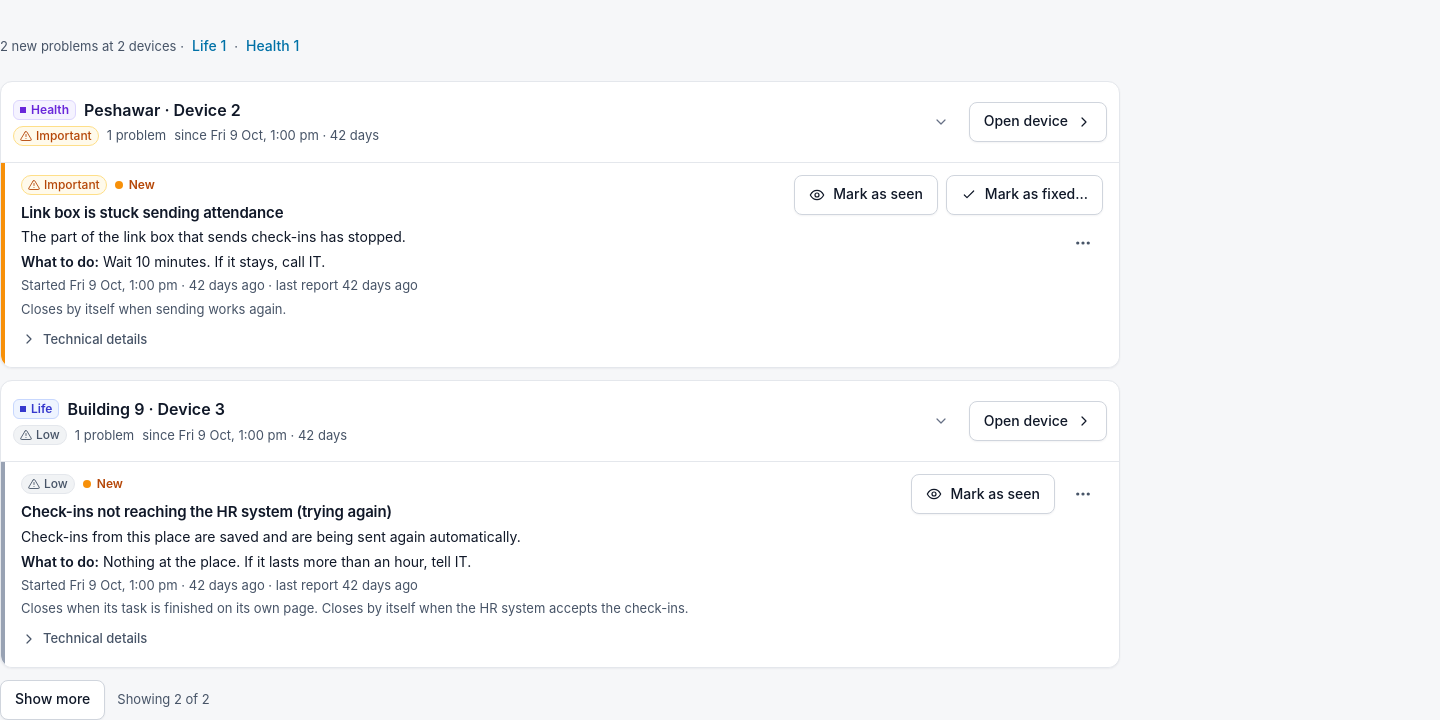
Test: Problems page › lets New load the next page with Show more
(page scrolled)
Expected: the heading "Machine clock is 9 min slow" is not shown
Click the button "Show more" at (53, 700), box [0, 680, 105, 719]
(page scrolled)
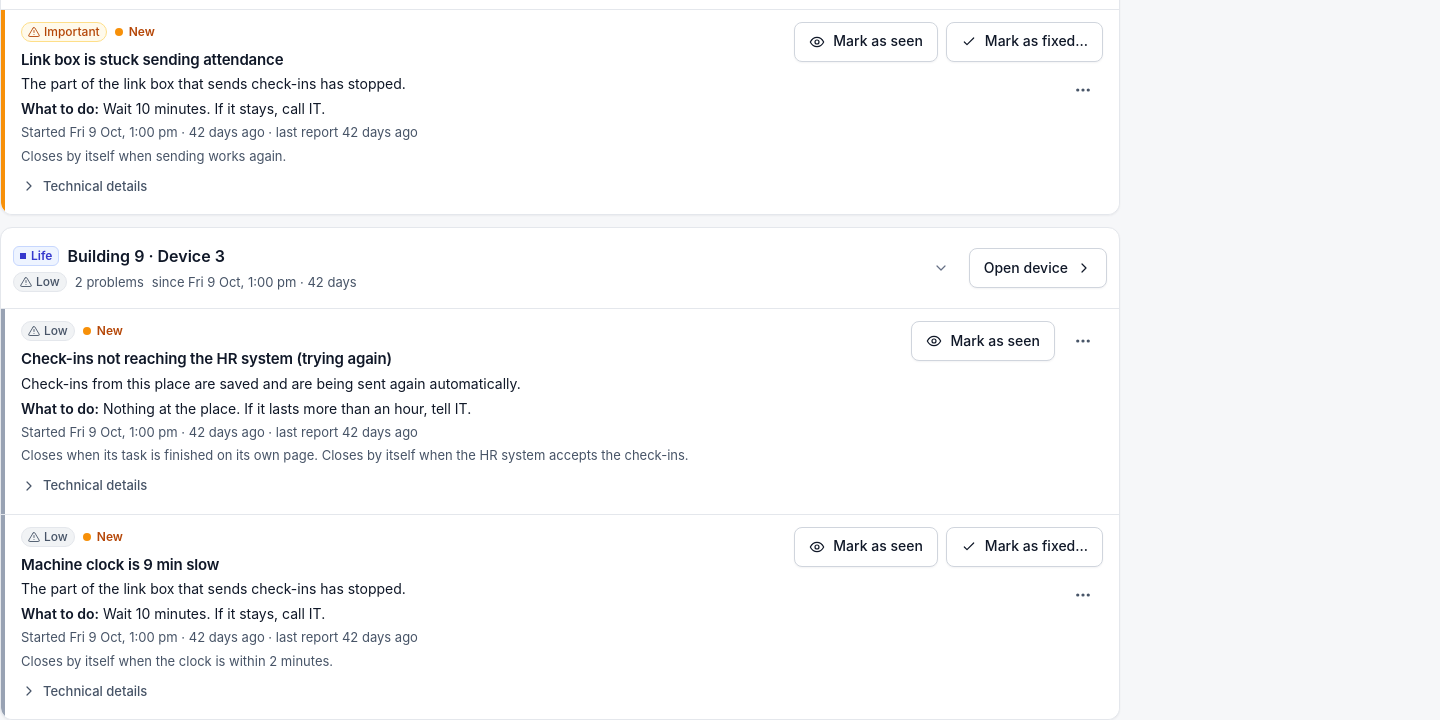
Now the heading "Machine clock is 9 min slow" is shown, box [21, 555, 219, 574]
Now the button "Show more" is gone
